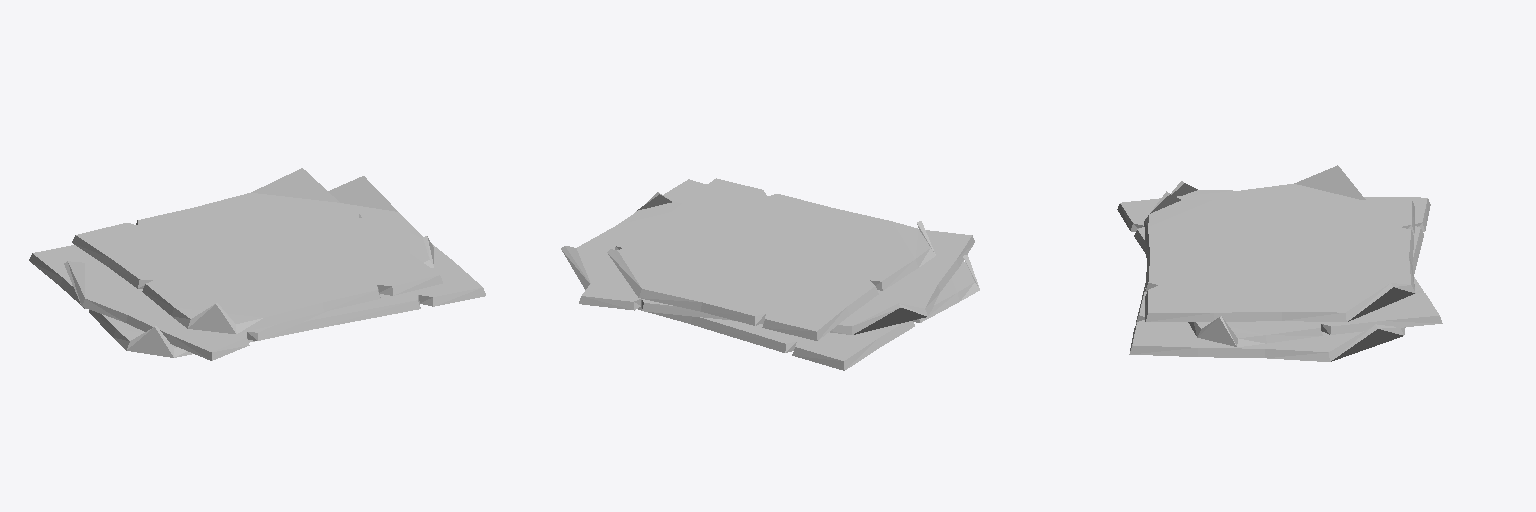
File: blueprint_stacked.obj
The picture shows the model from 3 angles: view 1: azimuth 30°, elevation 25°; view 2: azimuth 150°, elevation 25°; view 3: azimuth 270°, elevation 25°; orthographic projection.
Visible parts, largest first — view 1: blueprint_stacked; view 2: blueprint_stacked; view 3: blueprint_stacked.
Boxes of the visible parts, x1,y1,x2,y2 form: blueprint_stacked: [29, 168, 485, 360]; blueprint_stacked: [561, 178, 979, 370]; blueprint_stacked: [1117, 165, 1442, 361].
Bounding box in the file's own units: 2.12 × 0.2712 × 1.75.